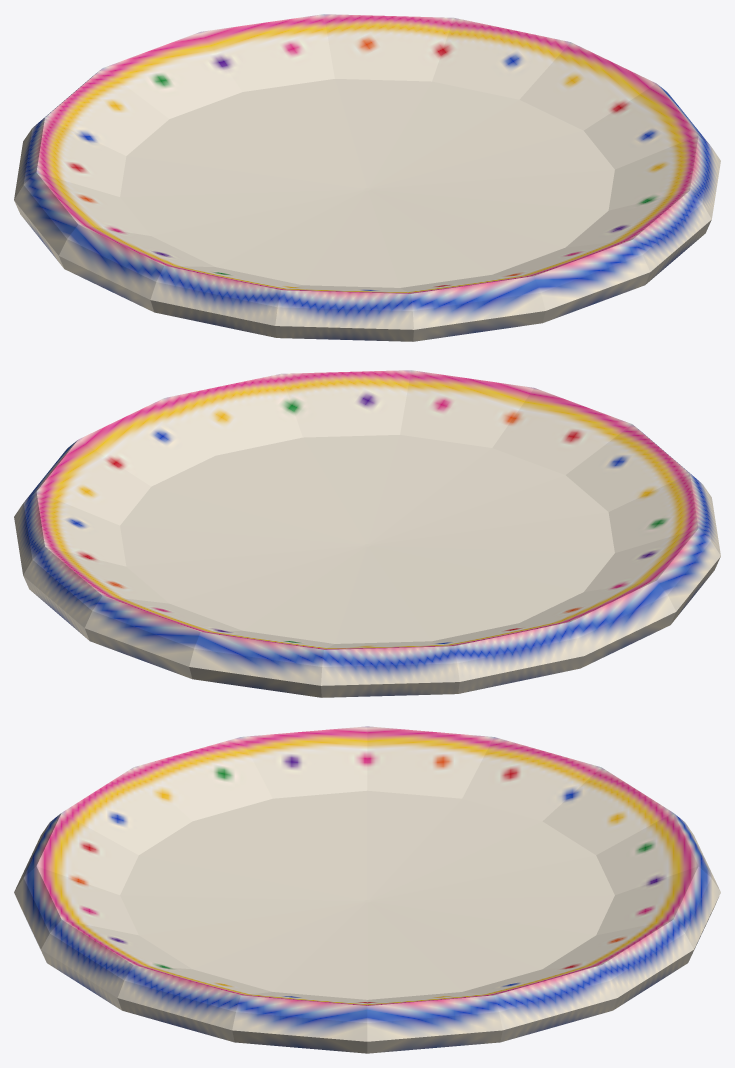
The model's file is party_plate_border.glb.
3 renders of one model, top to bottom at view 1: azimuth 30°, elevation 25°; view 2: azimuth 150°, elevation 25°; view 3: azimuth 270°, elevation 25°, orthographic.
Visible parts, largest first — view 1: party_plate_border_body; view 2: party_plate_border_body; view 3: party_plate_border_body.
Part boxes in pixels (x1,y1,x2,y2): party_plate_border_body: (14, 14, 720, 341); party_plate_border_body: (14, 370, 720, 697); party_plate_border_body: (14, 726, 720, 1053).
Size of the model in its own units: 0.22 by 0.016 by 0.22.
Materials: 1 (1 with a texture image).
